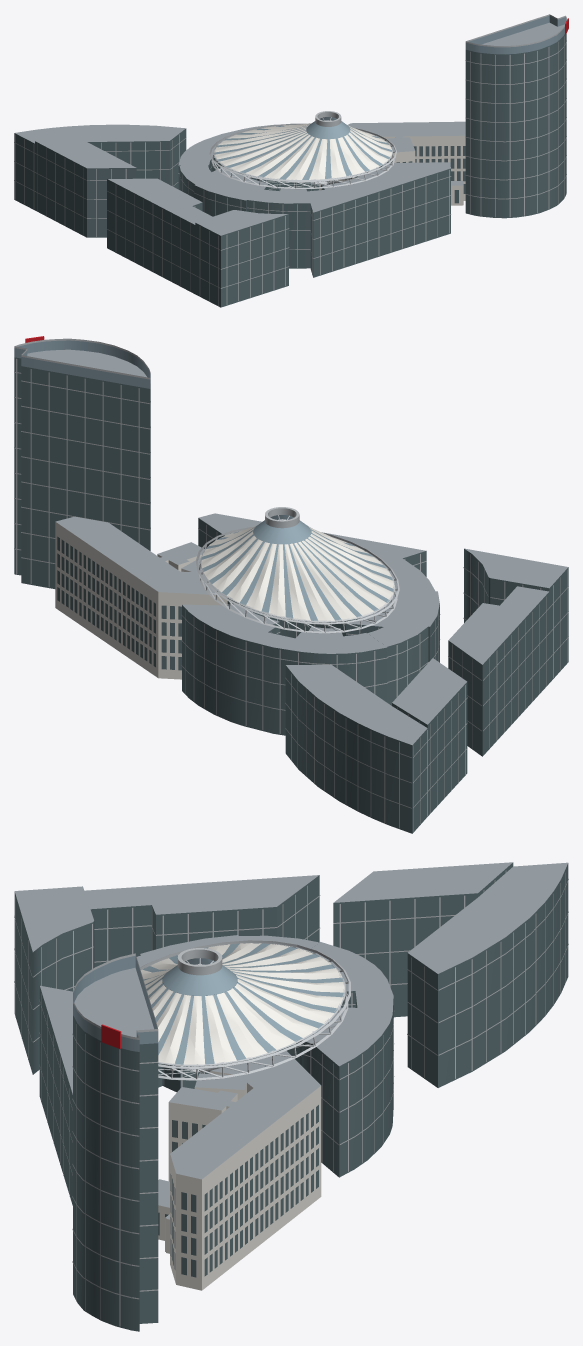
The model's file is berlin-sony-center.glb.
The picture shows the model from 3 angles, top to bottom: view 1: azimuth 30°, elevation 25°; view 2: azimuth 150°, elevation 25°; view 3: azimuth 270°, elevation 25°; orthographic projection. The views are drawn at different scales.
Parts seen in each view (by area): view 1: Sony Center; view 2: Sony Center; view 3: Sony Center.
Boxes of the visible parts, bbox=[...] form: Sony Center: bbox=[14, 14, 568, 307]; Sony Center: bbox=[14, 336, 568, 833]; Sony Center: bbox=[14, 862, 568, 1331].
Bounding box in the file's own units: 267 × 104 × 176.
